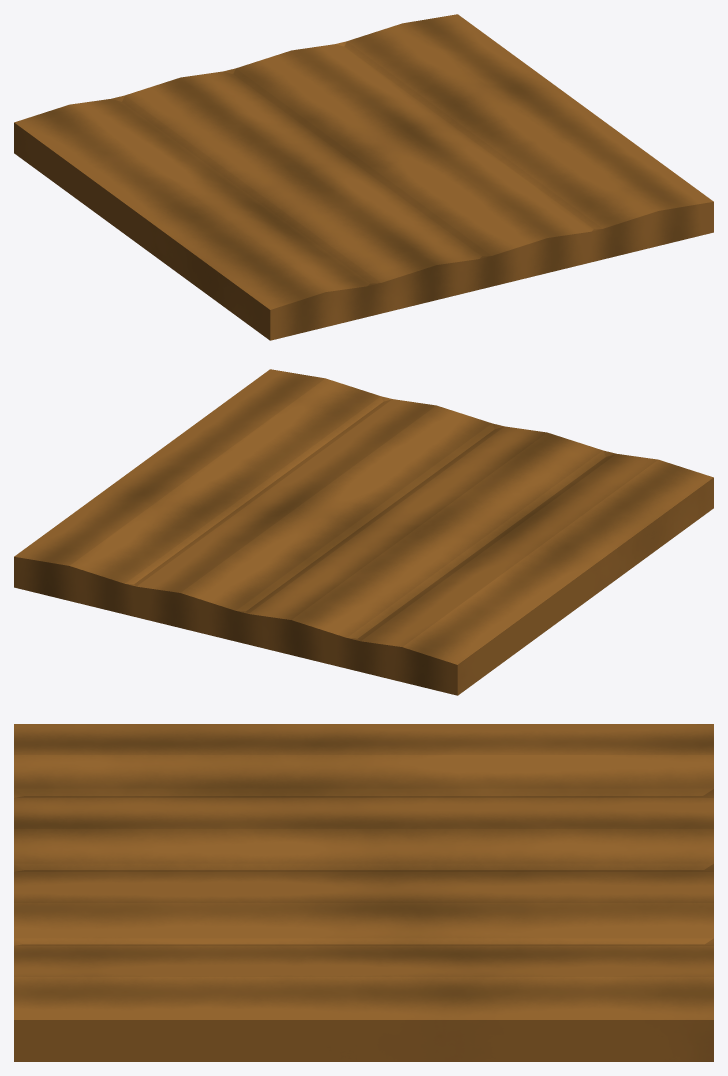
The model's file is tilled land.fbx.
3 views of the same model, one above another, from view 1: azimuth 30°, elevation 25°; view 2: azimuth 150°, elevation 25°; view 3: azimuth 270°, elevation 25° (orthographic). The views are drawn at different scales.
Parts seen in each view (by area): view 1: Tilled Ground EXP; view 2: Tilled Ground EXP; view 3: Tilled Ground EXP.
Part boxes in pixels (left/top/right/bottom): Tilled Ground EXP: left=14, top=14, right=713, bottom=340; Tilled Ground EXP: left=14, top=369, right=713, bottom=695; Tilled Ground EXP: left=14, top=724, right=713, bottom=1061.
Size of the model in its own units: 355 by 26.81 by 355.
Materials: 1 (1 with a texture image).
